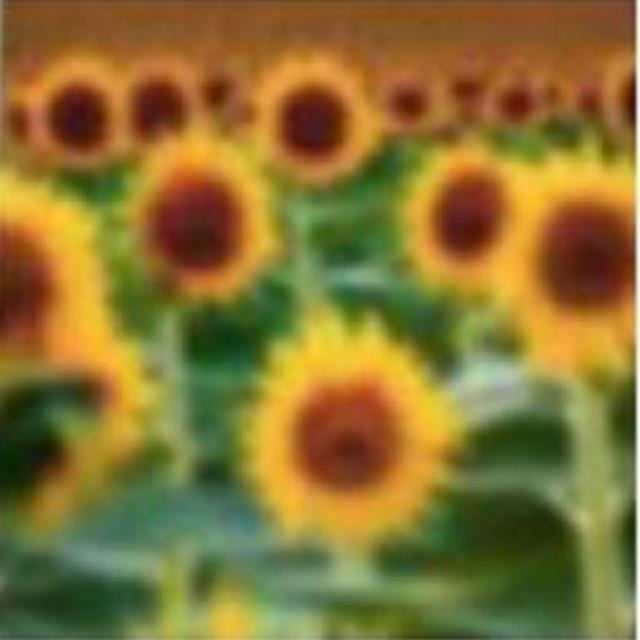sunflower: (235, 309, 471, 557), (501, 156, 640, 372), (4, 350, 154, 532), (122, 132, 276, 309), (403, 144, 530, 292), (250, 54, 384, 191), (29, 53, 132, 173)
